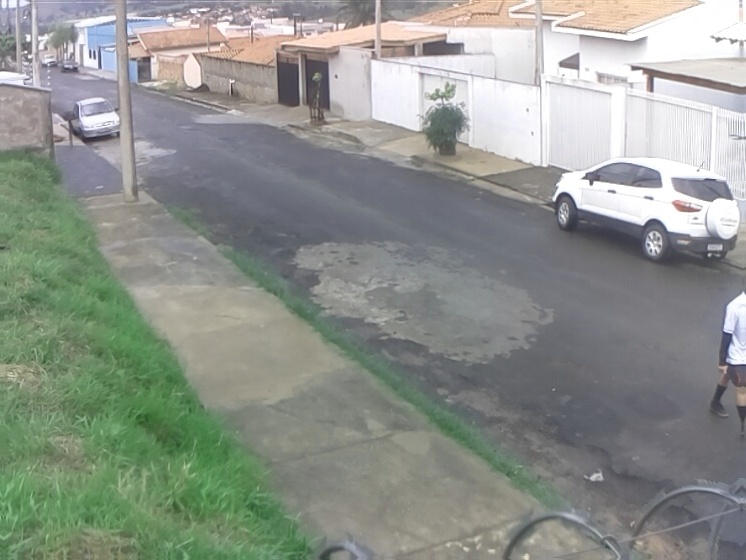person: (706, 282, 746, 427)
